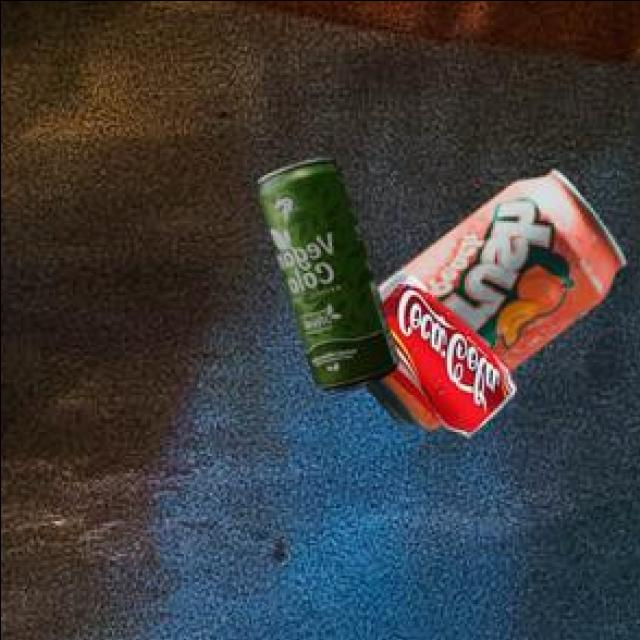logam: (369, 167, 628, 426), (260, 153, 402, 389), (382, 271, 517, 432)
